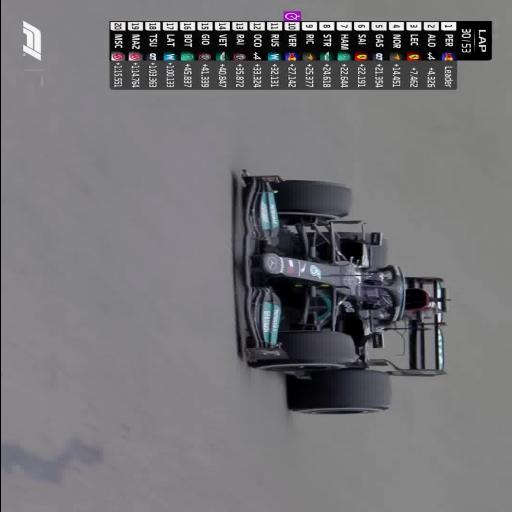f1_car: (243, 171, 448, 414)
